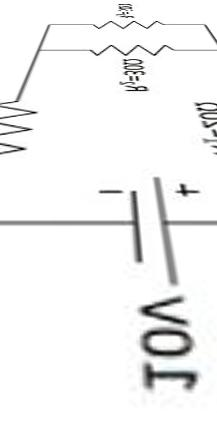resistor: (86, 34, 184, 55)
